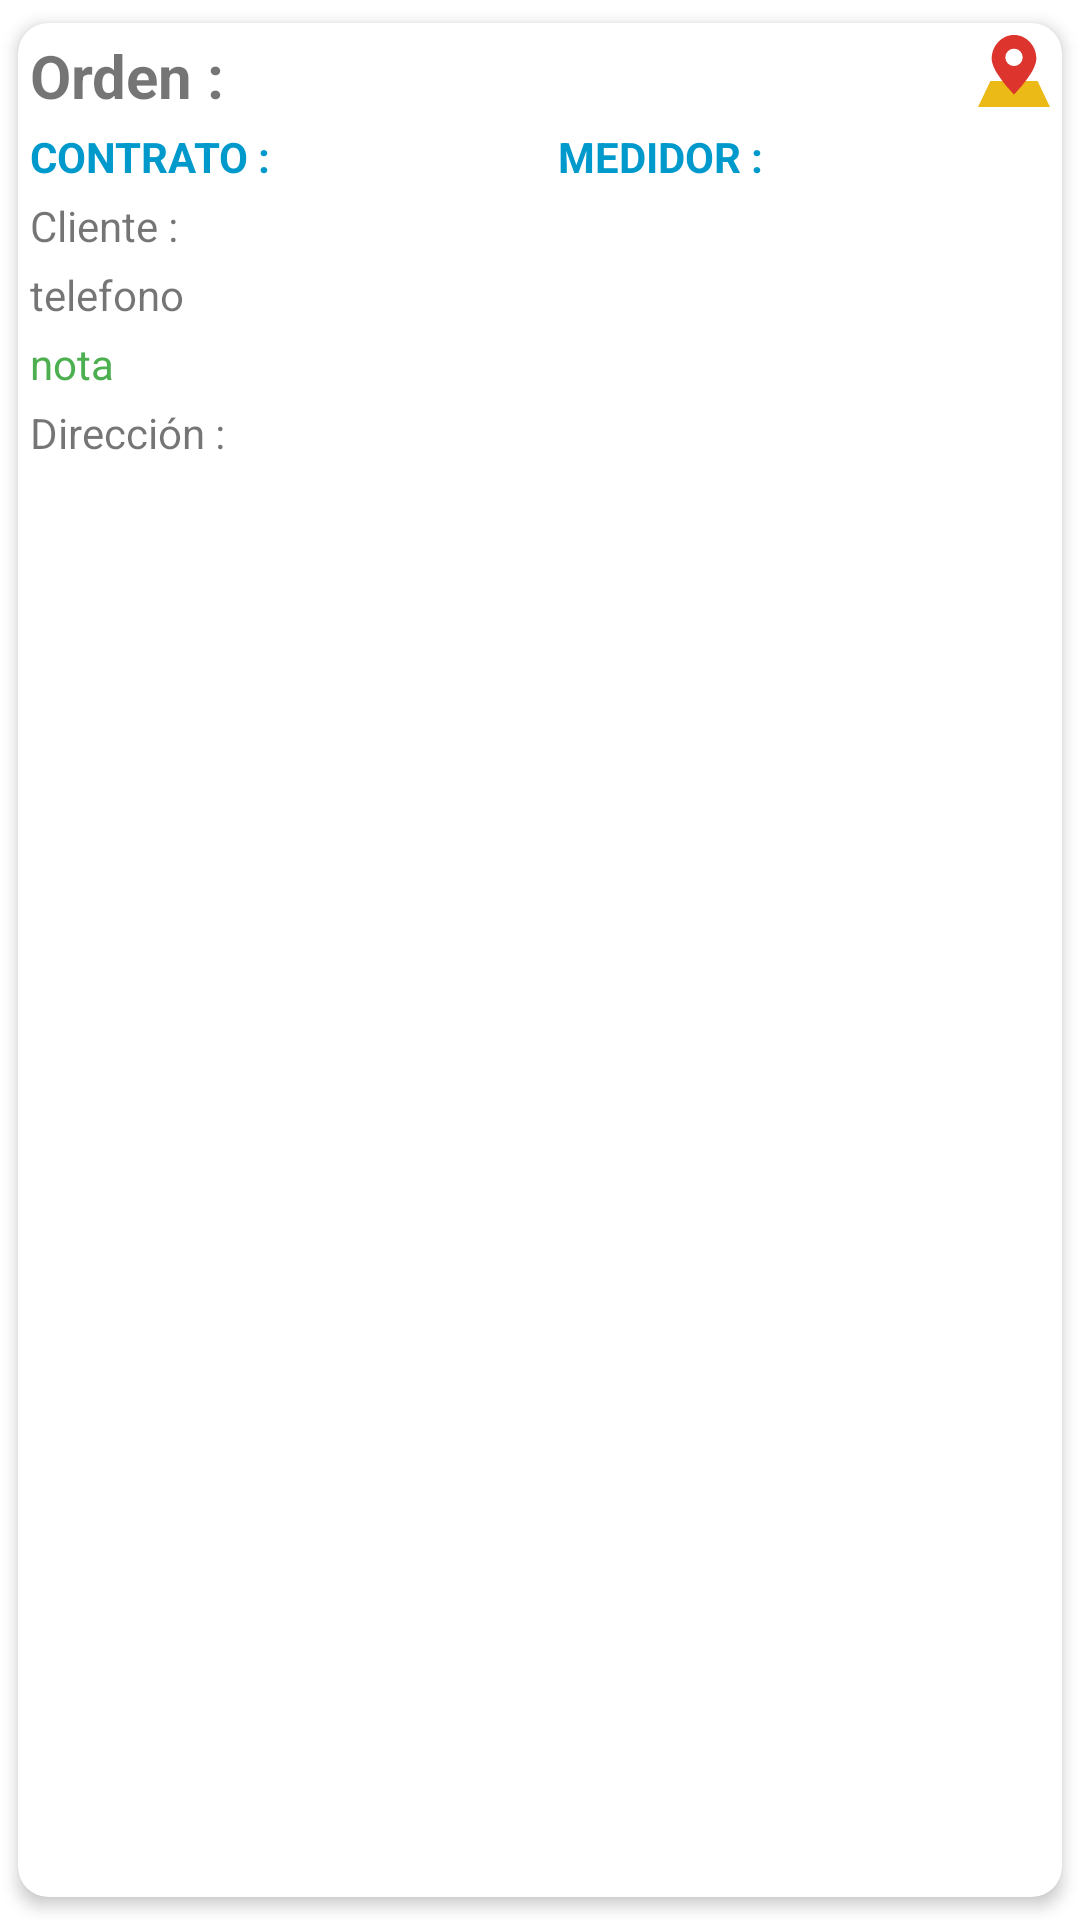

Icon bounding boxes for this 1080x1920 phone screenshot, format bbox(x1, y1, x2, y2):
map: bbox(978, 35, 1050, 107)
